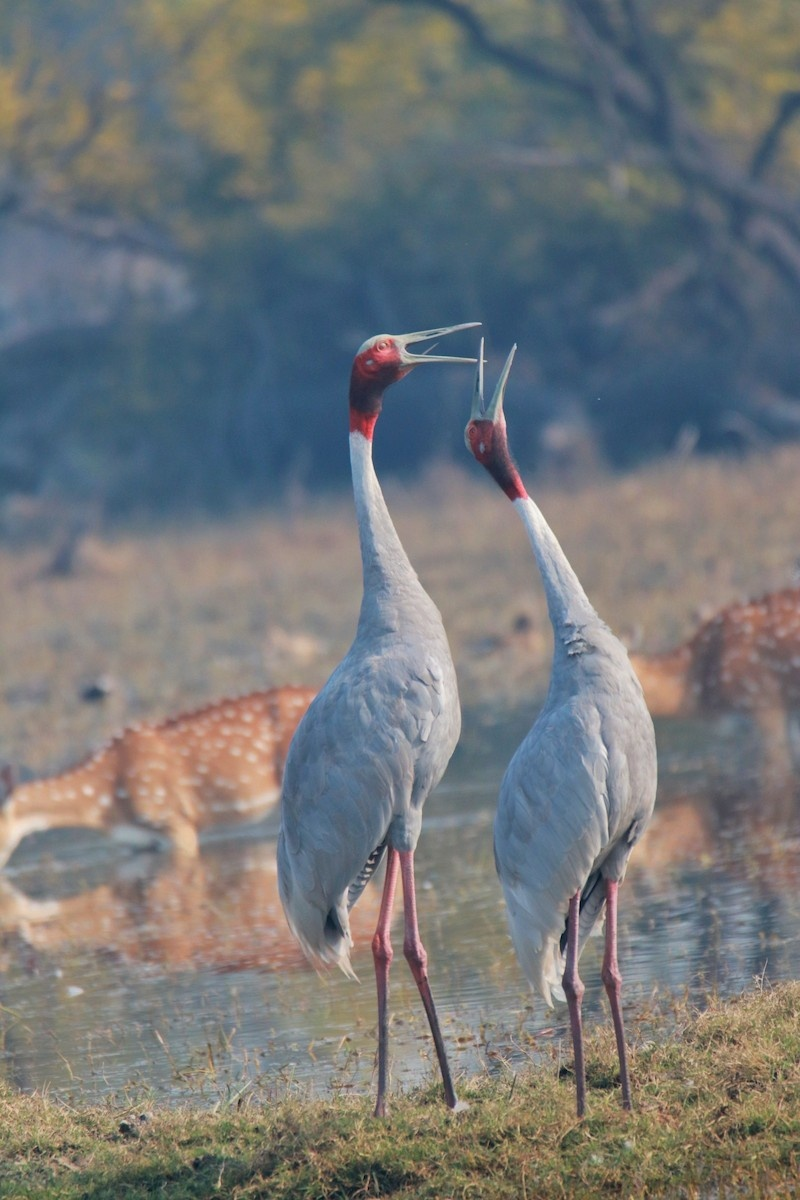crane: (463, 329, 684, 1130), (287, 313, 490, 1133)
